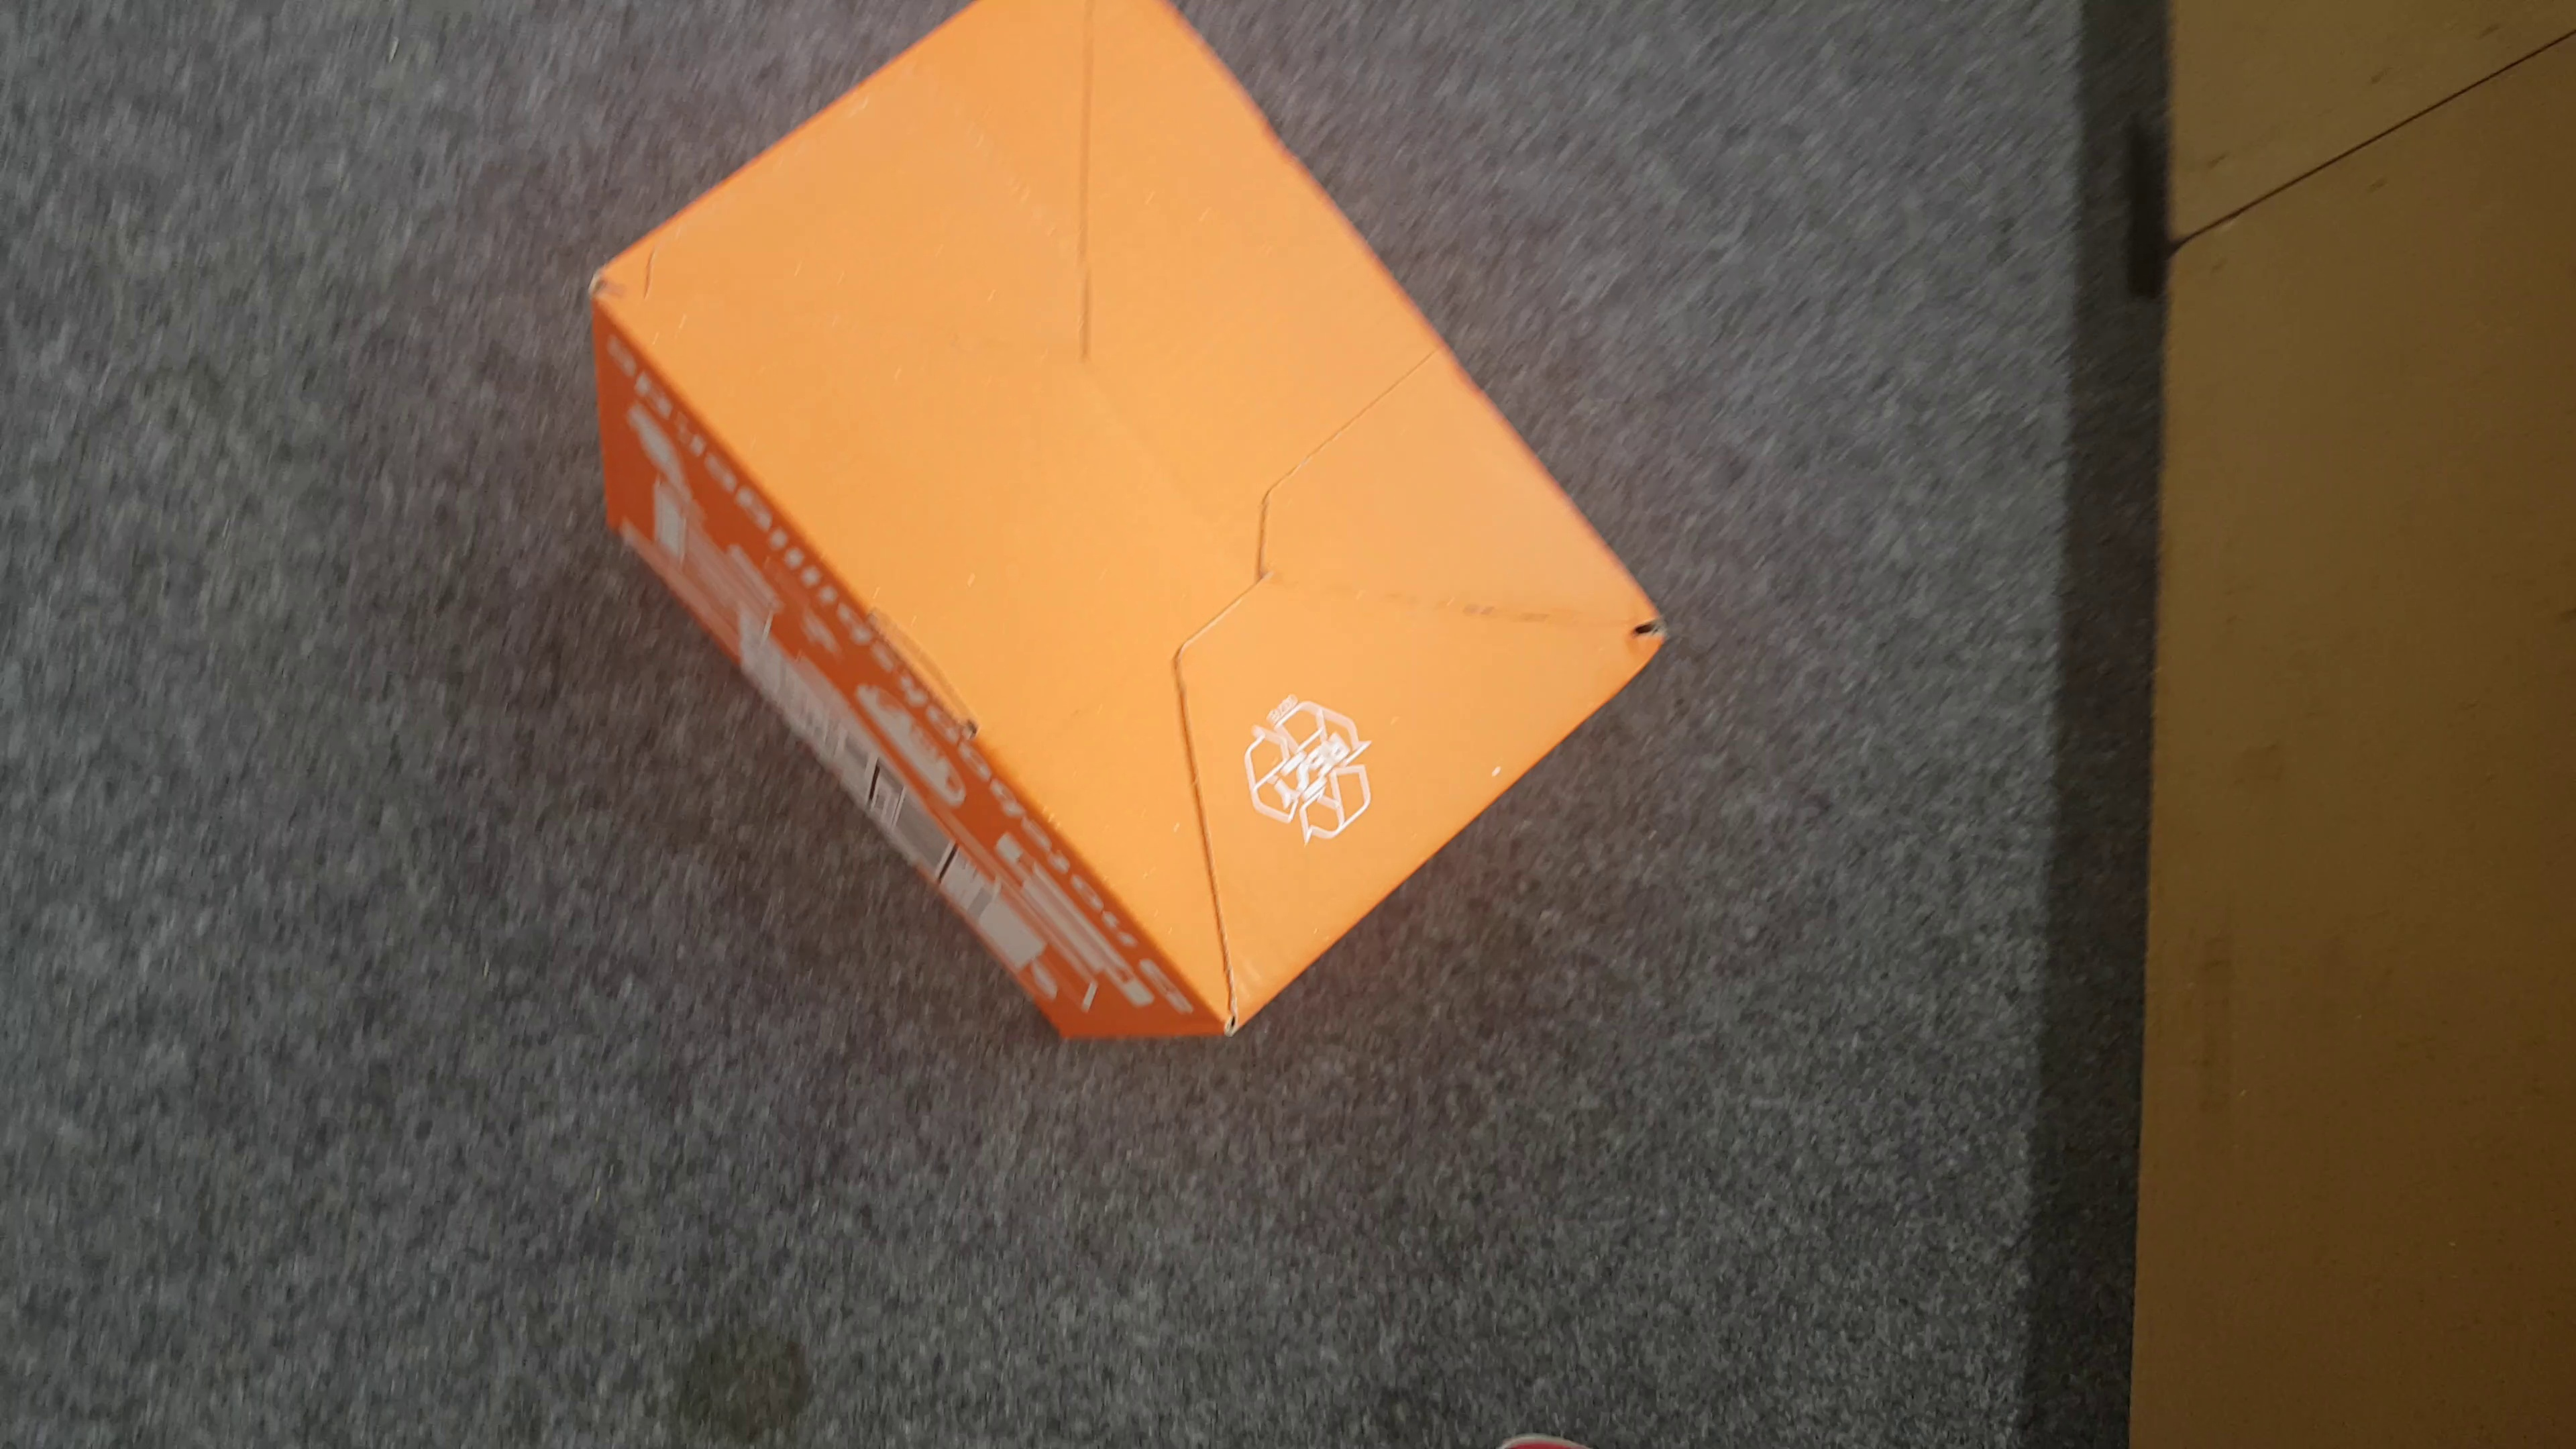push: (579, 5, 1672, 1046)
